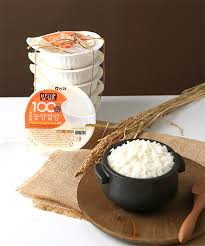ssalbab: (106, 139, 176, 179)
